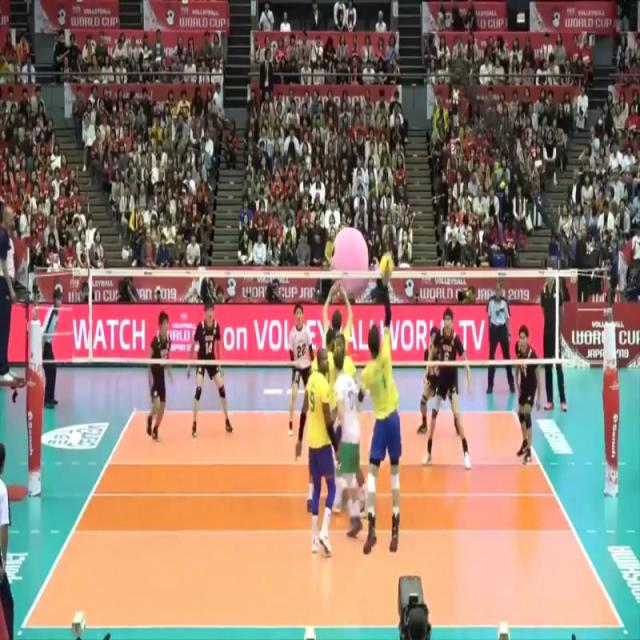volleyball: (378, 250, 397, 284)
